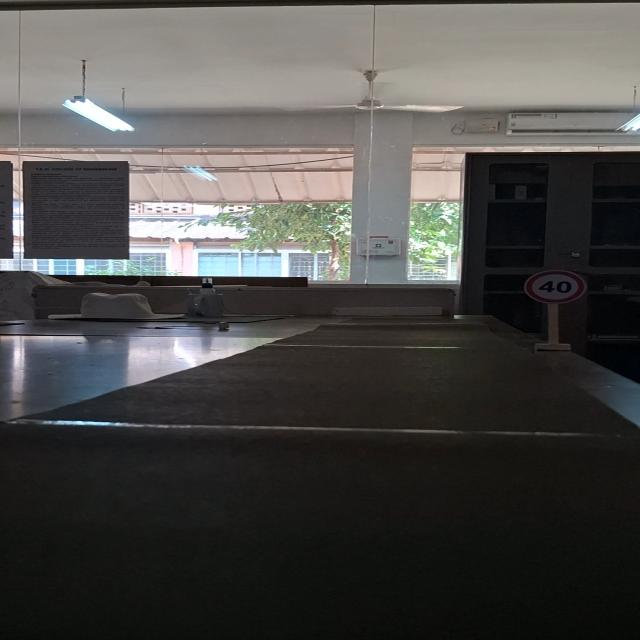Speed40: (522, 268, 589, 306)
